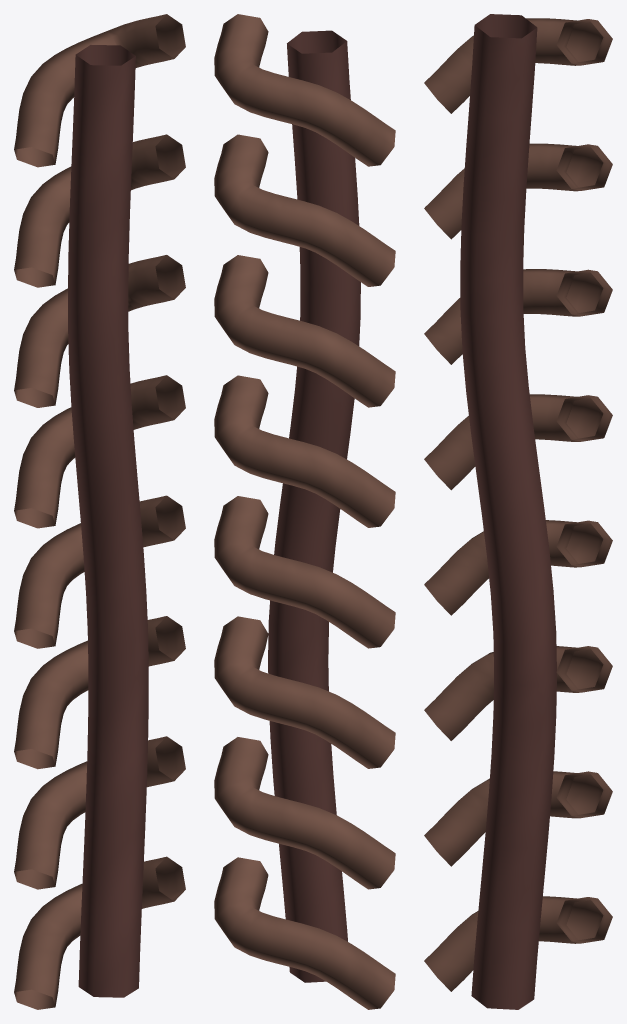
Rendered from prop-organic-rib-v01.glb.
3 views of the same model, side by side, from view 1: azimuth 30°, elevation 25°; view 2: azimuth 150°, elevation 25°; view 3: azimuth 330°, elevation 25° (orthographic). The views are drawn at different scales.
Visible parts, largest first — view 1: organic-rib; view 2: organic-rib; view 3: organic-rib.
Boxes of the visible parts, bbox=[...] form: organic-rib: bbox=[14, 14, 185, 1009]; organic-rib: bbox=[214, 14, 395, 1009]; organic-rib: bbox=[424, 14, 612, 1009].
Bounding box in the file's own units: 0.3243 × 1.76 × 0.2032.
